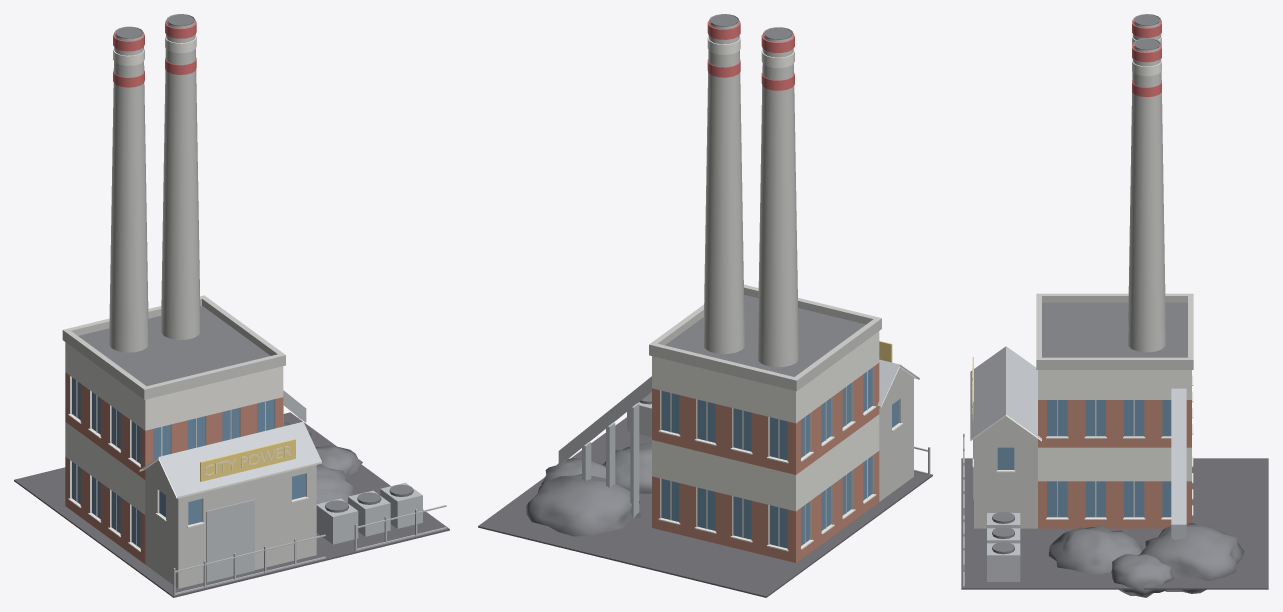
File: coal_plant.glb
3 views of the same model, side by side, from view 1: azimuth 30°, elevation 25°; view 2: azimuth 150°, elevation 25°; view 3: azimuth 270°, elevation 25° (orthographic). The views are drawn at different scales.
Parts seen in each view (by area): view 1: coal_plant; view 2: coal_plant; view 3: coal_plant.
Part boxes in pixels (bbox=[...]): coal_plant: bbox=[14, 14, 449, 597]; coal_plant: bbox=[478, 14, 932, 597]; coal_plant: bbox=[961, 14, 1268, 597].
Size of the model in its own units: 24.08 by 42.14 by 24.
